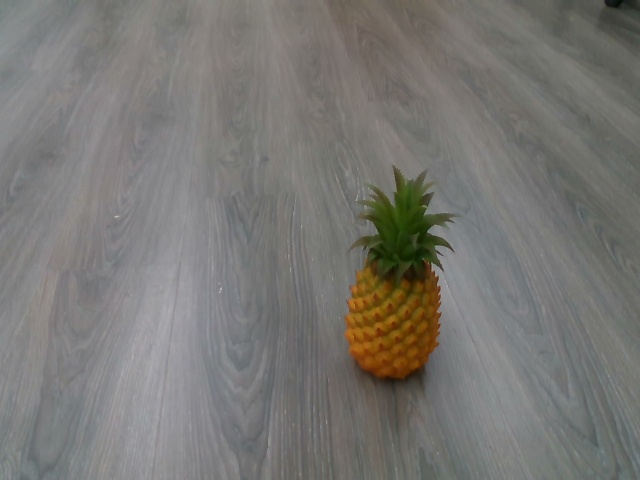pineapple: (344, 165, 461, 383)
